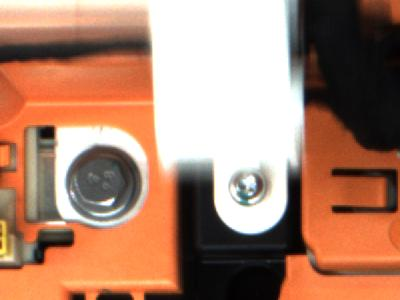nut_b: (60, 146, 148, 220)
